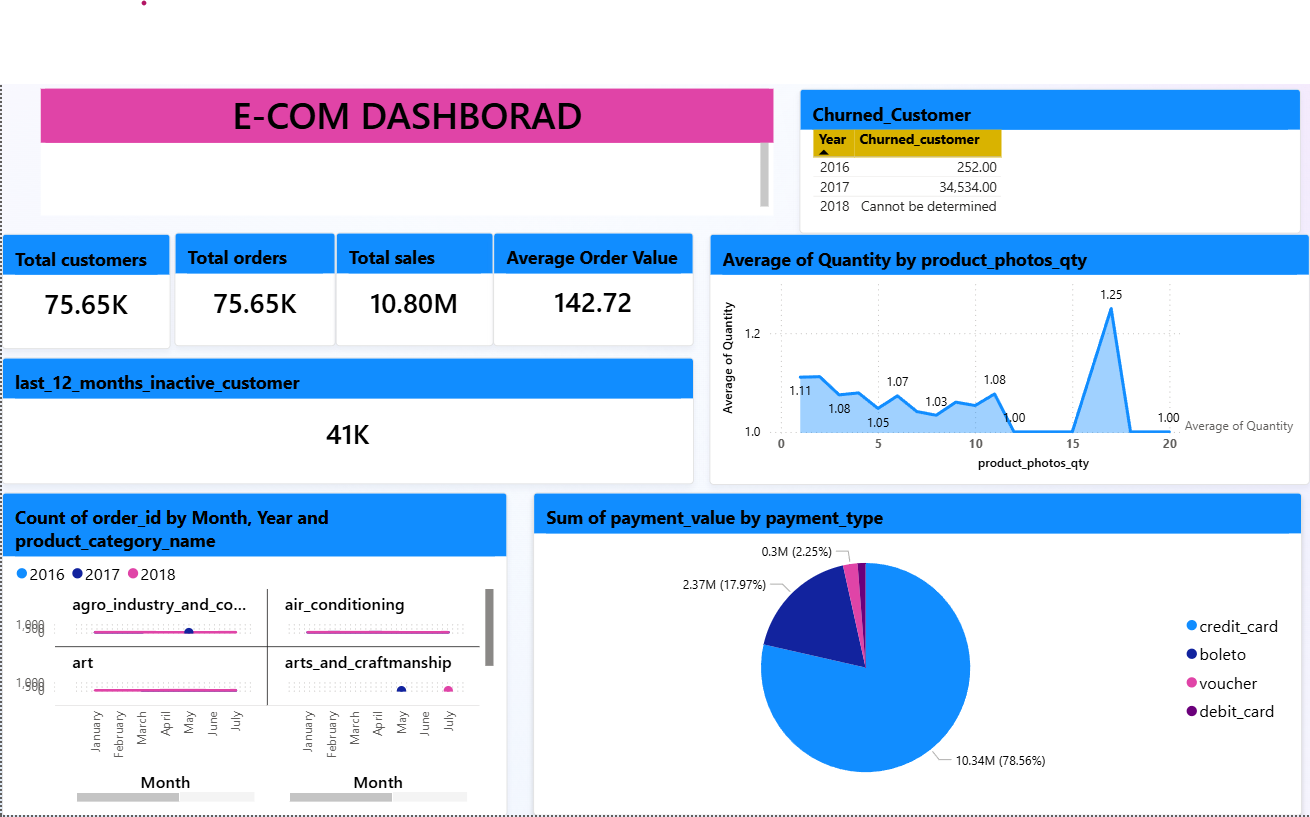

Layout of this report page (visuals, bound fields, positions):
{"tool":"powerbi","page":{"name":"Page 1","canvas":[1280,720],"ordinal":0},"visuals":[{"type":"tableEx","title":"Churned_Customer","fields":{"Values":["orders.order_purchase_timestamp.Variation.Date Hierarchy.Year","Table.Churned_customer"]},"box":[780.5,8.7,490.5,141.4],"z":0},{"type":"lineChart","fields":{"Category":["products.product_photos_qty"],"Y":["Avg(orders.Quantity)"]},"box":[692.5,150,587.2,245.3],"z":1000},{"type":"pieChart","fields":{"Category":["orders.payment_type"],"Y":["Sum(orders.payment_value)"]},"box":[519.4,404,751.7,316],"z":2000},{"type":"lineChart","title":"Count of order_id by Month, Year and product_category_name","fields":{"Category":["orders.order_purchase_timestamp.Variation.Date Hierarchy.Month"],"Y":["CountNonNull(orders.order_id)"],"Series":["orders.order_purchase_timestamp.Variation.Date Hierarchy.Year"],"Rows":["products.product_category_name_english"]},"box":[0,403.5,494,316.7],"z":3000},{"type":"card","title":"Total customers","fields":{"Values":["Count(orders.customer_id)"]},"box":[0,150.4,165.1,112.5],"z":4000},{"type":"card","title":"Total orders","fields":{"Values":["Count(orders.order_id)"]},"box":[168.8,149.2,157.7,111.3],"z":5000},{"type":"card","title":"Total sales","fields":{"Values":["Sum(orders.price)"]},"box":[326.5,149.2,154.1,111.3],"z":6000},{"type":"card","title":"Average Order Value","fields":{"Values":["Table.Average order value"]},"box":[480.4,148.6,196.2,111.1],"z":7000},{"type":"card","title":"last_12_months_inactive_customer","fields":{"Values":["Table.last_12_months_inactive_customers"]},"box":[0,271.2,676.7,124.1],"z":8000},{"type":"textbox","title":"       E-COM  DASHBORAD                                          ","box":[37.5,8.7,717.1,124.1],"z":9000}]}

Visuals, with their boxes on the page's 1280x720 design canvas (x1, y1, x2, y2). These are canvas units, not pixel positions in the 1310x817 screenshot, which may show the page scaled, cropped or inside an application window:
"Churned_Customer" tableEx: x1=780, y1=9, x2=1271, y2=150
lineChart - products.product_photos_qty x Avg(orders.Quantity): x1=692, y1=150, x2=1280, y2=395
pieChart - orders.payment_type x Sum(orders.payment_value): x1=519, y1=404, x2=1271, y2=720
"Count of order_id by Month, Year and product_category_name" lineChart: x1=0, y1=404, x2=494, y2=720
"Total customers" card: x1=0, y1=150, x2=165, y2=263
"Total orders" card: x1=169, y1=149, x2=326, y2=260
"Total sales" card: x1=326, y1=149, x2=481, y2=260
"Average Order Value" card: x1=480, y1=149, x2=677, y2=260
"last_12_months_inactive_customer" card: x1=0, y1=271, x2=677, y2=395
"       E-COM  DASHBORAD                                          " textbox: x1=38, y1=9, x2=755, y2=133
